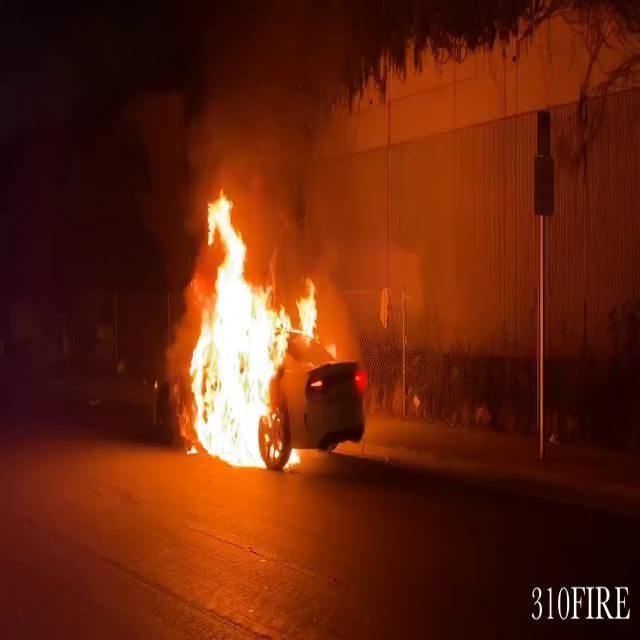Fire: (175, 178, 320, 474)
